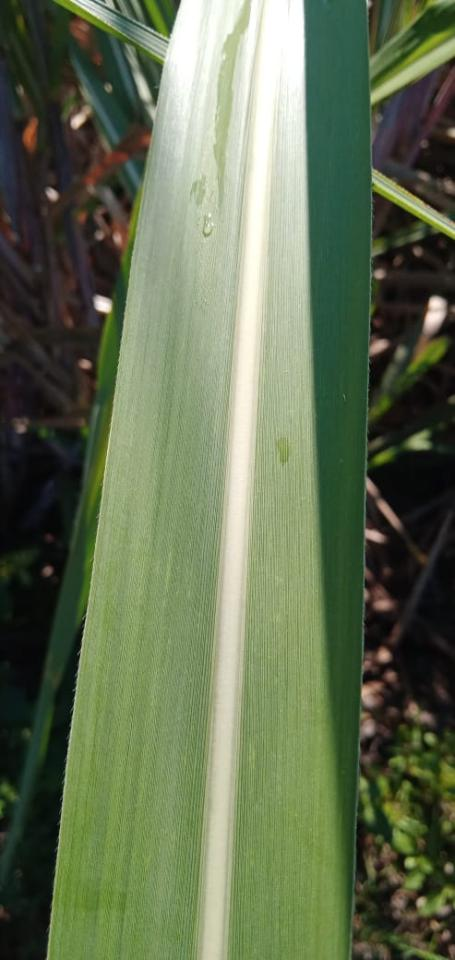Healthy: (48, 0, 370, 959)
